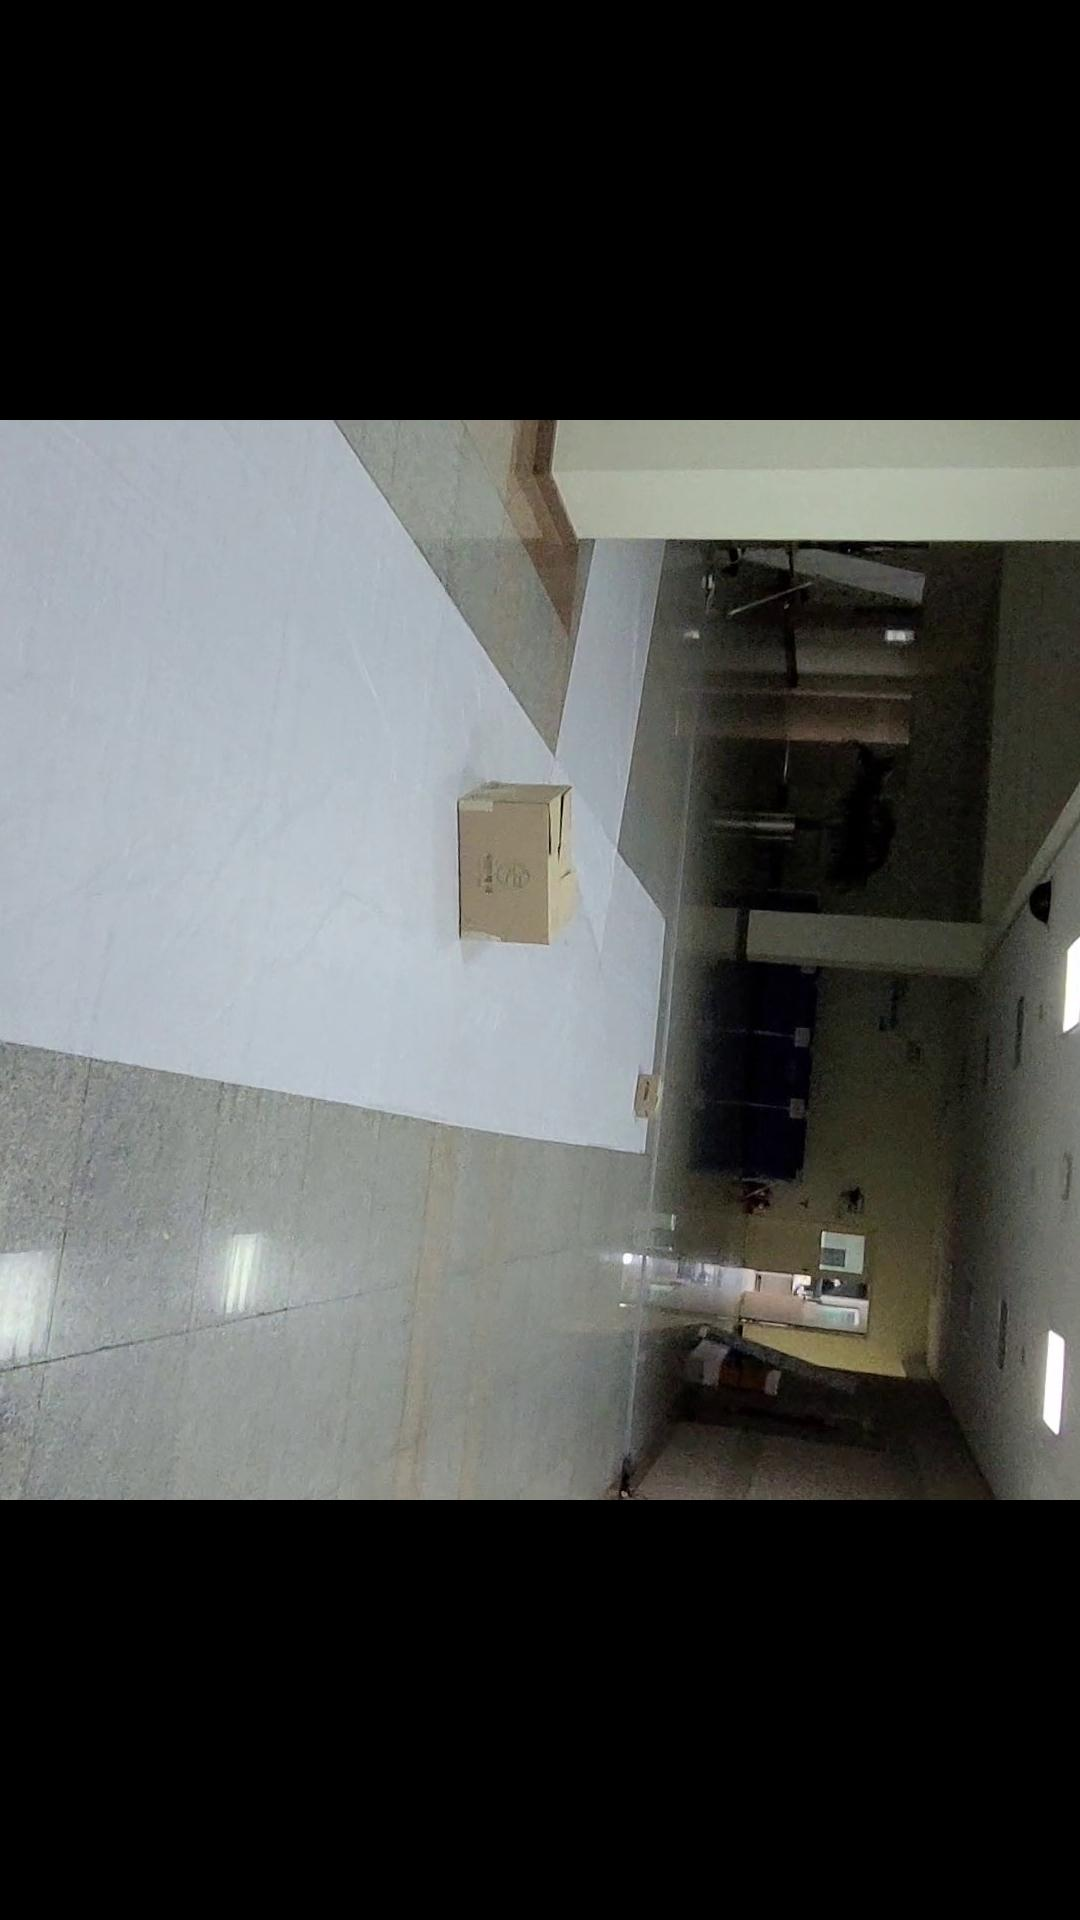Box: (440, 767, 589, 965), (608, 1065, 670, 1127)
